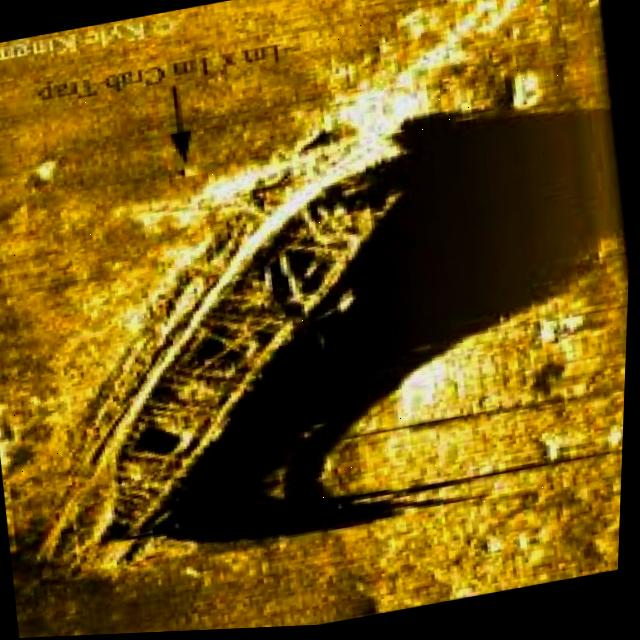shipwreck: (0, 141, 470, 598)
